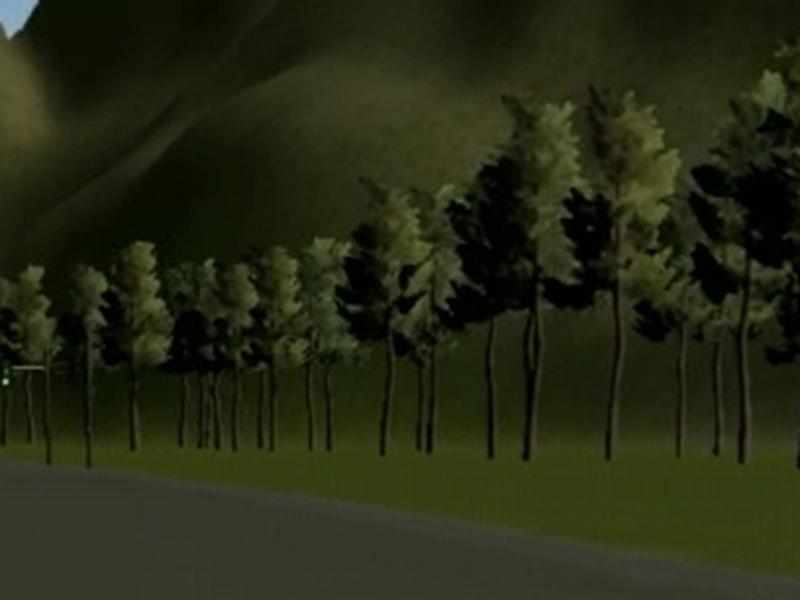Green: (1, 353, 11, 392)
